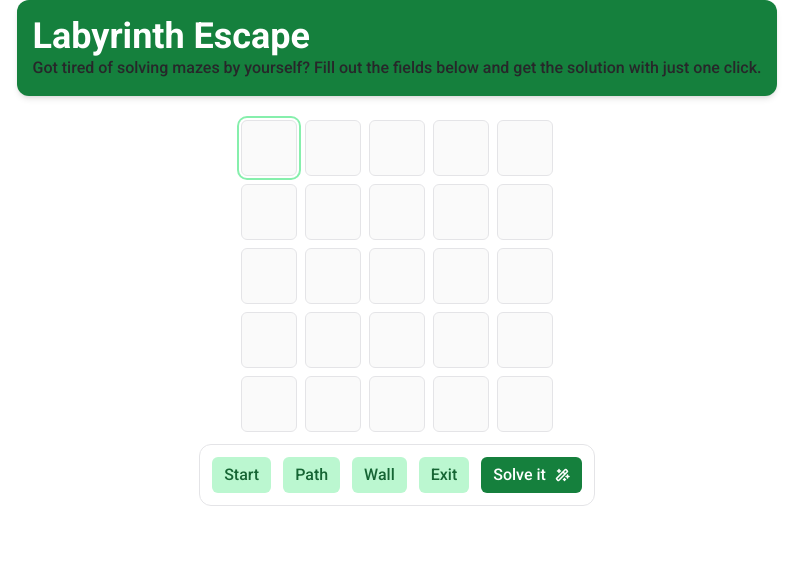
Test: LabyrinthEscape › When a invalid Labyrinth is submitted, it should present a ErrorMessage
Click the button with test id "submit_button" at (532, 475), box top-left (481, 457), bottom-right (582, 493)
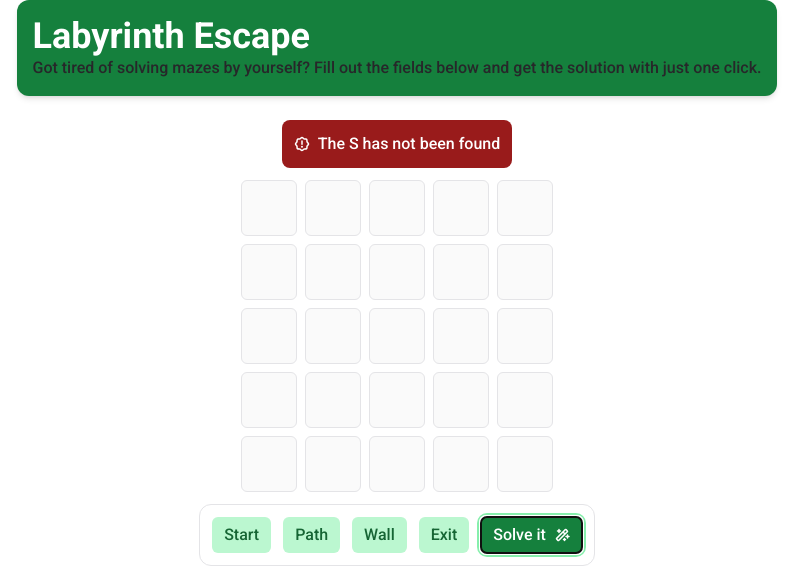
Expected: the element with test id "error_message" is shown, top-left (282, 120), bottom-right (512, 168)
